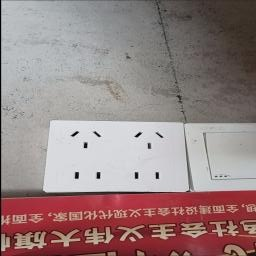outlet: (31, 116, 190, 197)
